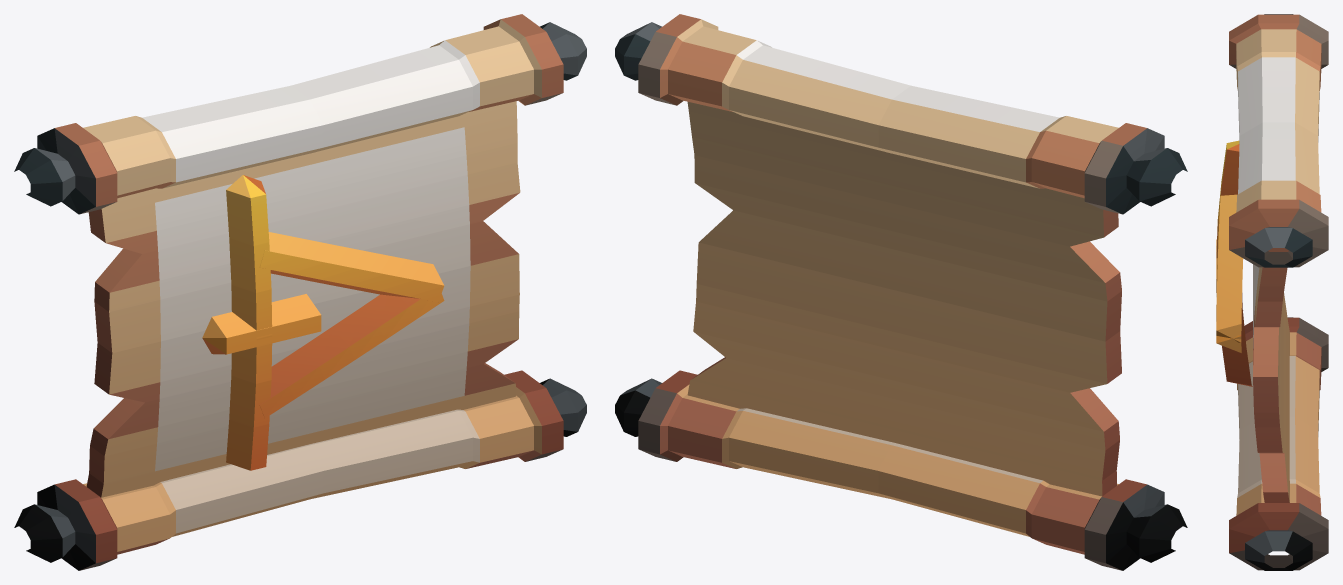
File: source.glb
3 renders of one model, left to right at view 1: azimuth 30°, elevation 25°; view 2: azimuth 150°, elevation 25°; view 3: azimuth 270°, elevation 25°, orthographic. The views are drawn at different scales.
Visible parts, largest first — view 1: model; view 2: model; view 3: model.
Boxes of the visible parts, x1,y1,x2,y2 form: model: (14, 14, 586, 570); model: (615, 14, 1187, 570); model: (1216, 14, 1328, 570).
Bounding box in the file's own units: 0.88 × 0.64 × 0.18.
1 material, 1 textured.
